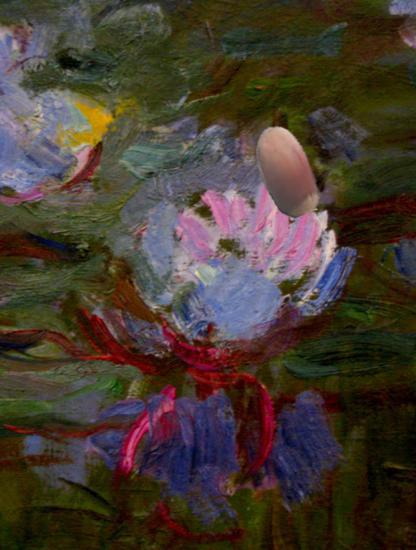Hazelnut: (236, 122, 333, 219)
